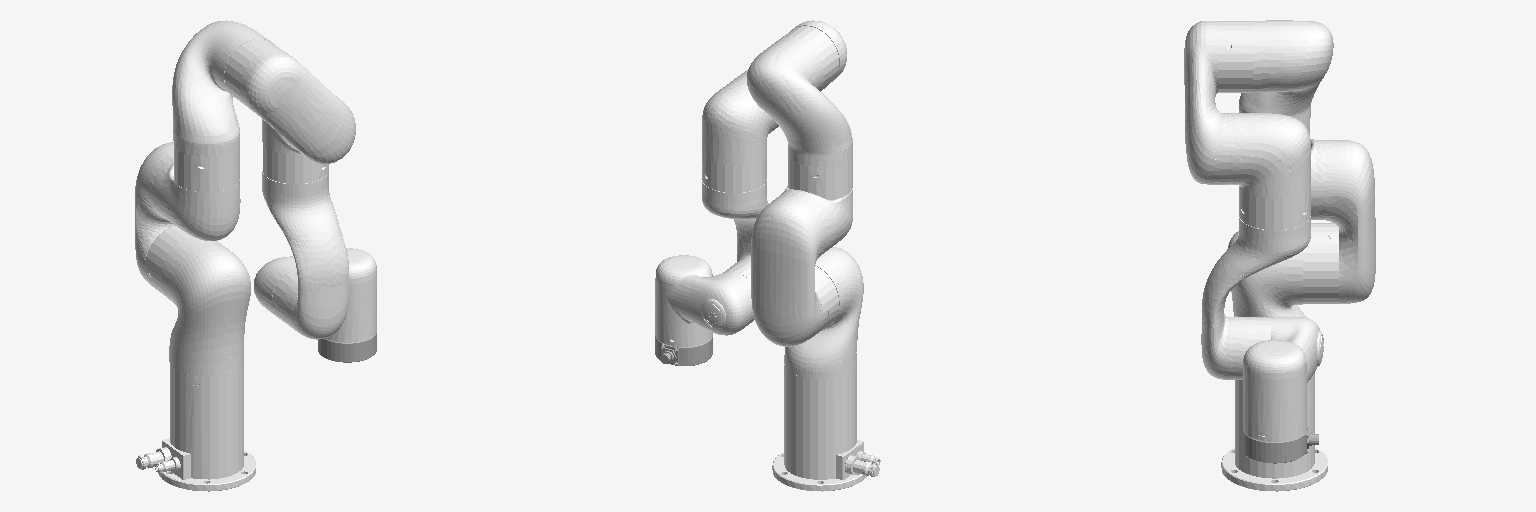
The robot description file, URDF, robot "xarm7":
<?xml version='1.0' encoding='utf-8'?>
<robot name="xarm7">
  <mujoco><compiler balanceinertia="true" discardvisual="false" meshdir="meshes/visual"/></mujoco>
  <material name="xarm_white">
    <color rgba="1 1 1 1" />
  </material>
  <material name="xarm_gray">
    <color rgba="0.753 0.753 0.753 1" />
  </material>
  <material name="xarm_black">
    <color rgba="0.149 0.149 0.149 1" />
  </material>
  <link name="link_base">
    <visual>
      <geometry>
        <mesh filename="meshes/visual/link_base.obj" />
      </geometry>
      <material name="xarm_white" />
    </visual>
    <collision>
      <origin rpy="0 0 0" xyz="-0.021 -0.002 0.056" />
      <geometry>
        <cylinder length="0.12" radius="0.08" />
      </geometry>
    </collision>
    <inertial>
      <origin xyz="-0.021131 -0.0016302 0.056488" />
      <mass value="0.88556" />
      <inertia ixx="0.00306" ixy="0.00012" ixz="-0.00063" iyy="0.00378" iyz="0.00027" izz="0.00201" />
    </inertial>
  </link>
  <link name="link1">
    <visual>
      <geometry>
        <mesh filename="meshes/visual/link1.obj" />
      </geometry>
      <material name="xarm_white" />
    </visual>
    <collision>
      <origin rpy="0 0 0" xyz="0 0 -0.04" />
      <geometry>
        <cylinder length="0.16" radius="0.06" />
      </geometry>
    </collision>
    <inertial>
      <origin xyz="0.00013 -0.01925 -0.01686" />
      <mass value="1.6937" />
      <inertia ixx="0.0046" ixy="0" ixz="0" iyy="0.0045" iyz="-0.0005" izz="0.0026" />
    </inertial>
  </link>
  <link name="link2">
    <visual>
      <geometry>
        <mesh filename="meshes/visual/link2.obj" />
      </geometry>
      <material name="xarm_white" />
    </visual>
    <collision>
      <origin rpy="1.5708 0 0" xyz="0 -0.07 0.08" />
      <geometry>
        <cylinder length="0.18" radius="0.05" />
      </geometry>
    </collision>
    <inertial>
      <origin xyz="0.00024 0.14233 -0.01108" />
      <mass value="1.4967" />
      <inertia ixx="0.0074" ixy="0" ixz="0" iyy="0.0014" iyz="-0.0017" izz="0.0074" />
    </inertial>
  </link>
  <link name="link3">
    <visual>
      <geometry>
        <mesh filename="meshes/visual/link3.obj" />
      </geometry>
      <material name="xarm_white" />
    </visual>
    <collision>
      <origin rpy="0 0 0" xyz="0.03 0 -0.05" />
      <geometry>
        <sphere radius="0.06" />
      </geometry>
    </collision>
    <inertial>
      <origin xyz="0.04585 -0.0007 -0.00965" />
      <mass value="1.045" />
      <inertia ixx="0.0013" ixy="0" ixz="-0.0004" iyy="0.0017" iyz="0" izz="0.0009" />
    </inertial>
  </link>
  <link name="link4">
    <visual>
      <geometry>
        <mesh filename="meshes/visual/link4.obj" />
      </geometry>
      <material name="xarm_white" />
    </visual>
    <collision>
      <origin rpy="1.5708 0 0" xyz="0.08 -0.15 0" />
      <geometry>
        <cylinder length="0.18" radius="0.045" />
      </geometry>
    </collision>
    <inertial>
      <origin xyz="0.07059 0.17076 -0.01178" />
      <mass value="1.199" />
      <inertia ixx="0.0047" ixy="-0.0006" ixz="0.0001" iyy="0.001" iyz="-0.0013" izz="0.005" />
    </inertial>
  </link>
  <link name="link5">
    <visual>
      <geometry>
        <mesh filename="meshes/visual/link5.obj" />
      </geometry>
      <material name="xarm_white" />
    </visual>
    <collision>
      <origin rpy="0 0 0" xyz="0 0 -0.04" />
      <geometry>
        <sphere radius="0.05" />
      </geometry>
    </collision>
    <inertial>
      <origin xyz="0.00053 0.02605 -0.01266" />
      <mass value="0.525" />
      <inertia ixx="0.0006" ixy="0" ixz="0" iyy="0.0005" iyz="-0.0001" izz="0.0004" />
    </inertial>
  </link>
  <link name="link6">
    <visual>
      <geometry>
        <mesh filename="meshes/visual/link6.obj" />
      </geometry>
      <material name="xarm_white" />
    </visual>
    <collision>
      <origin rpy="0 0 0" xyz="0.065 0.033 0.02" />
      <geometry>
        <sphere radius="0.05" />
      </geometry>
    </collision>
    <inertial>
      <origin xyz="0.06469 0.03278 0.02141" />
      <mass value="1.325" />
      <inertia ixx="0.00245" ixy="0" ixz="0" iyy="0.00222" iyz="0" izz="0.00107" />
    </inertial>
  </link>
  <link name="link7">
    <visual>
      <geometry>
        <mesh filename="meshes/visual/link7.obj" />
      </geometry>
      <material name="xarm_gray" />
    </visual>
    <collision>
      <origin rpy="0 0 0" xyz="0 0 0" />
      <geometry>
        <cylinder length="0.04" radius="0.04" />
      </geometry>
    </collision>
    <inertial>
      <origin xyz="0 -0.00677 -0.01098" />
      <mass value="0.17" />
      <inertia ixx="0.000132" ixy="0" ixz="0" iyy="0.000093" iyz="0" izz="0.0000585" />
    </inertial>
  </link>
  <link name="tool0" />
  <joint name="joint1" type="revolute">
    <parent link="link_base" />
    <child link="link1" />
    <origin rpy="0 0 0" xyz="0 0 0.267" />
    <axis xyz="0 0 1" />
    <limit effort="50" lower="-6.28319" upper="6.28319" velocity="3.14" />
    <dynamics damping="10" friction="1" />
  </joint>
  <joint name="joint2" type="revolute">
    <parent link="link1" />
    <child link="link2" />
    <origin rpy="-1.5708 0 0" xyz="0 0 0" />
    <axis xyz="0 0 1" />
    <limit effort="50" lower="-2.059" upper="2.0944" velocity="3.14" />
    <dynamics damping="10" friction="1" />
  </joint>
  <joint name="joint3" type="revolute">
    <parent link="link2" />
    <child link="link3" />
    <origin rpy="1.5708 0 0" xyz="0 -0.293 0" />
    <axis xyz="0 0 1" />
    <limit effort="30" lower="-6.28319" upper="6.28319" velocity="3.14" />
    <dynamics damping="5" friction="1" />
  </joint>
  <joint name="joint4" type="revolute">
    <parent link="link3" />
    <child link="link4" />
    <origin rpy="1.5708 0 0" xyz="0.0525 0 0" />
    <axis xyz="0 0 1" />
    <limit effort="30" lower="-0.19198" upper="3.927" velocity="3.14" />
    <dynamics damping="5" friction="1" />
  </joint>
  <joint name="joint5" type="revolute">
    <parent link="link4" />
    <child link="link5" />
    <origin rpy="1.5708 0 0" xyz="0.0775 -0.3425 0" />
    <axis xyz="0 0 1" />
    <limit effort="20" lower="-6.28319" upper="6.28319" velocity="3.14" />
    <dynamics damping="3" friction="1" />
  </joint>
  <joint name="joint6" type="revolute">
    <parent link="link5" />
    <child link="link6" />
    <origin rpy="1.5708 0 0" xyz="0 0 0" />
    <axis xyz="0 0 1" />
    <limit effort="20" lower="-1.69297" upper="3.14159" velocity="3.14" />
    <dynamics damping="3" friction="1" />
  </joint>
  <joint name="joint7" type="revolute">
    <parent link="link6" />
    <child link="link7" />
    <origin rpy="-1.5708 0 0" xyz="0.076 0.097 0" />
    <axis xyz="0 0 1" />
    <limit effort="20" lower="-6.28319" upper="6.28319" velocity="3.14" />
    <dynamics damping="2" friction="1" />
  </joint>
  <joint name="joint7_to_tool0" type="fixed">
    <parent link="link7" />
    <child link="tool0" />
    <origin rpy="0 0 0" xyz="0 0 0" />
  </joint>
</robot>

--- What the picture shows (computed from the rendered views, not written in the file) ---
The picture shows the robot from 3 angles, left to right: view 1: azimuth 30°, elevation 25°; view 2: azimuth 150°, elevation 25°; view 3: azimuth 270°, elevation 25°; orthographic projection.
Robot: xarm7 — 9 links, 8 joints (7 revolute, 1 fixed); root link link_base; default pose: all joints at 0.
Visible links, largest first — view 1: link1, link4, link5, link_base, link3, link2, link6, link7; view 2: link2, link3, link_base, link4, link6, link1, link5, link7; view 3: link4, link3, link2, link6, link5, link1, link_base, link7.
Boxes of the visible links, x1,y1,x2,y2 form: link1: (145,226,250,375); link4: (240,50,355,183); link5: (262,169,348,339); link_base: (136,363,255,491); link3: (172,20,283,156); link2: (135,142,240,286); link6: (254,248,376,342); link7: (318,332,376,362); link2: (751,155,852,346); link3: (747,26,852,166); link_base: (772,364,880,491); link4: (702,20,846,192); link6: (655,255,754,346); link1: (784,247,863,378); link5: (702,180,768,280); link7: (655,336,712,365); link4: (1184,21,1310,229); link3: (1218,20,1333,123); link2: (1304,120,1375,303); link6: (1243,317,1323,441); link5: (1201,216,1310,379); link1: (1227,223,1338,317); link_base: (1221,373,1327,491); link7: (1243,426,1318,463).
Bounding box of the posed robot: 0.3358 × 0.2259 × 0.6028 m (x, y, z).
Meshes: 8 distinct files referenced, 8 mesh visuals loaded (8 OBJ).
